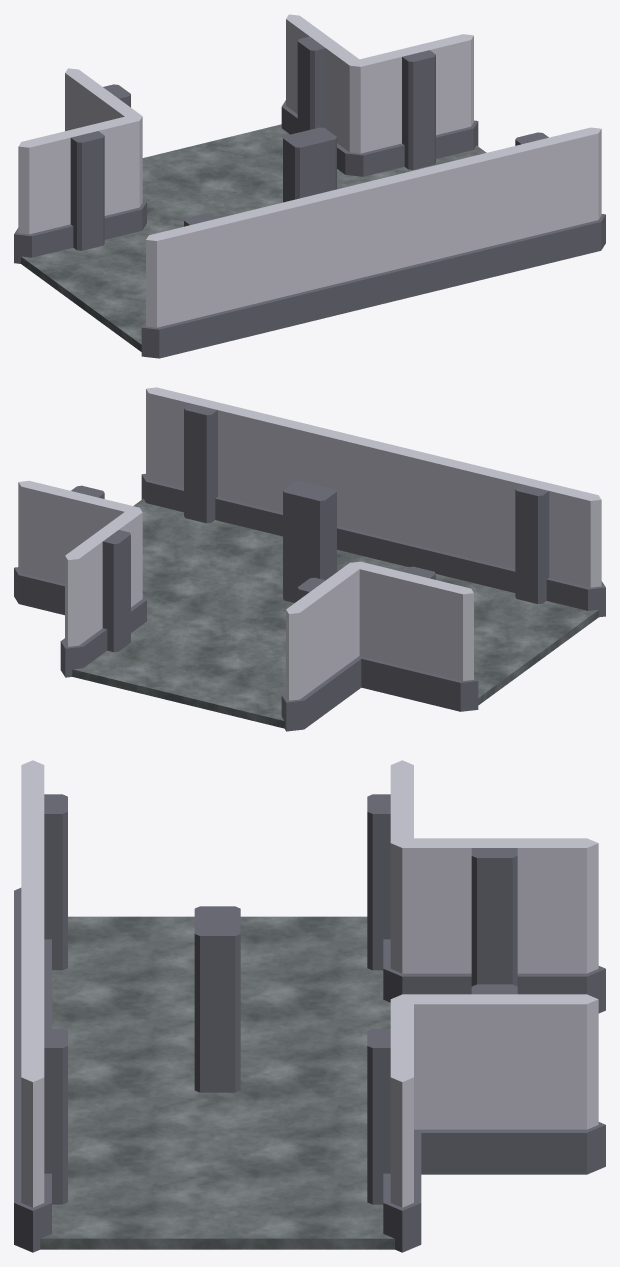
The model's file is intersection_3way_01.fbx.
3 views of the same model, one above another, from view 1: azimuth 30°, elevation 25°; view 2: azimuth 150°, elevation 25°; view 3: azimuth 270°, elevation 25° (orthographic). The views are drawn at different scales.
Parts seen in each view (by area): view 1: wall_02_8, wall_02_4, wall_02_7, wall_02_9, wall_01_10, wall_01_11, floor_04_3, floor_04_2, wall_02_5, pillar_01_12, wall_02_6, floor_01_0 (+1 smaller); view 2: wall_02_7, wall_02_8, wall_02_9, wall_01_11, floor_04_3, floor_01_0, wall_02_6, wall_01_10, wall_02_5, wall_02_4, floor_04_2, floor_04_1 (+1 smaller); view 3: floor_01_0, wall_02_5, wall_02_6, floor_04_1, floor_04_2, wall_02_4, wall_02_9, pillar_01_12, wall_02_8, wall_02_7, wall_01_11, wall_01_10.
Boxes of the visible parts, x1,y1,x2,y2 form: wall_02_8: [141, 208, 271, 358]; wall_02_4: [345, 34, 478, 176]; wall_02_7: [14, 115, 142, 263]; wall_02_9: [477, 127, 605, 277]; wall_01_10: [367, 154, 490, 304]; wall_01_11: [258, 181, 381, 331]; floor_04_3: [142, 124, 340, 221]; floor_04_2: [21, 226, 154, 351]; wall_02_5: [281, 14, 363, 174]; pillar_01_12: [283, 127, 336, 202]; wall_02_6: [65, 68, 146, 229]; floor_01_0: [143, 172, 375, 239]; wall_02_7: [350, 561, 478, 711]; wall_02_8: [476, 468, 605, 617]; wall_02_9: [141, 387, 269, 529]; wall_01_11: [366, 441, 489, 583]; floor_04_3: [72, 618, 285, 728]; floor_01_0: [143, 528, 483, 651]; wall_02_6: [281, 561, 363, 731]; wall_01_10: [255, 414, 380, 556]; wall_02_5: [60, 511, 146, 677]; wall_02_4: [14, 480, 146, 615]; floor_04_2: [474, 585, 598, 705]; floor_04_1: [133, 498, 262, 603]; floor_01_0: [52, 999, 390, 1160]; wall_02_5: [391, 984, 605, 1174]; wall_02_6: [383, 838, 605, 1013]; floor_04_1: [40, 1151, 394, 1249]; floor_04_2: [52, 916, 390, 1004]; wall_02_4: [367, 994, 421, 1252]; wall_02_9: [14, 994, 67, 1252]; pillar_01_12: [194, 906, 240, 1092]; wall_02_8: [14, 760, 67, 971]; wall_02_7: [367, 760, 413, 976]; wall_01_11: [14, 842, 51, 1049]; wall_01_10: [14, 916, 44, 1127].
Bounding box in the file's own units: 42.05 × 10 × 32.05.
